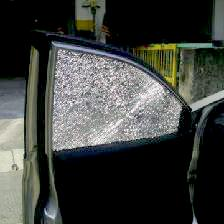glass_shatter: (34, 44, 181, 156)
